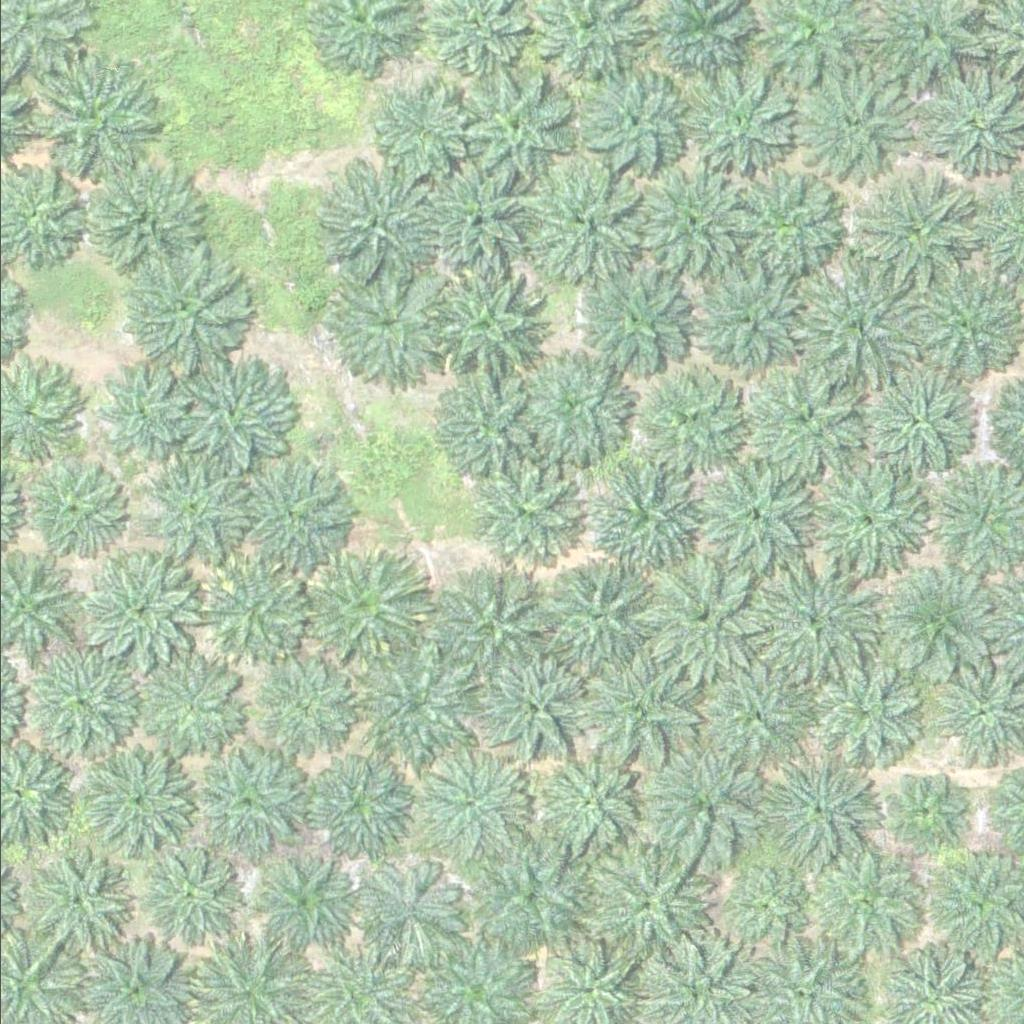Kelapa_Sawit: (846, 168, 972, 293), (667, 55, 793, 180), (790, 58, 916, 183), (447, 60, 573, 185), (627, 165, 753, 290), (519, 164, 645, 289), (311, 160, 437, 285), (737, 346, 863, 471), (426, 259, 552, 384), (322, 263, 448, 388), (752, 556, 878, 681), (637, 552, 763, 677), (581, 848, 707, 973), (168, 350, 294, 475), (115, 244, 241, 369), (30, 61, 156, 186), (722, 165, 847, 290), (627, 351, 752, 476), (509, 340, 634, 465), (294, 543, 419, 668), (360, 74, 474, 187), (698, 657, 812, 770), (805, 654, 919, 767), (88, 163, 202, 276), (878, 565, 991, 678), (576, 260, 689, 373), (690, 261, 803, 374), (805, 274, 918, 387), (431, 366, 544, 479), (474, 653, 587, 766), (578, 650, 691, 763), (294, 749, 407, 862), (83, 739, 196, 852), (87, 557, 200, 670), (757, 749, 871, 861), (643, 751, 757, 863), (464, 839, 578, 951), (855, 376, 968, 488), (572, 66, 685, 178), (416, 158, 529, 270), (468, 457, 581, 569), (593, 464, 706, 576), (696, 456, 809, 568), (806, 461, 919, 573), (536, 561, 649, 673), (438, 568, 551, 680), (351, 650, 464, 762), (135, 648, 248, 760), (25, 649, 138, 761), (421, 757, 522, 857), (250, 851, 351, 951), (808, 851, 909, 951), (139, 844, 240, 944), (32, 848, 133, 948), (197, 752, 298, 852), (254, 655, 355, 755), (204, 561, 305, 661), (242, 471, 343, 571), (144, 459, 245, 559), (23, 455, 124, 555), (91, 361, 192, 461), (539, 750, 639, 850), (354, 857, 454, 957), (883, 770, 959, 845), (724, 872, 800, 947)
